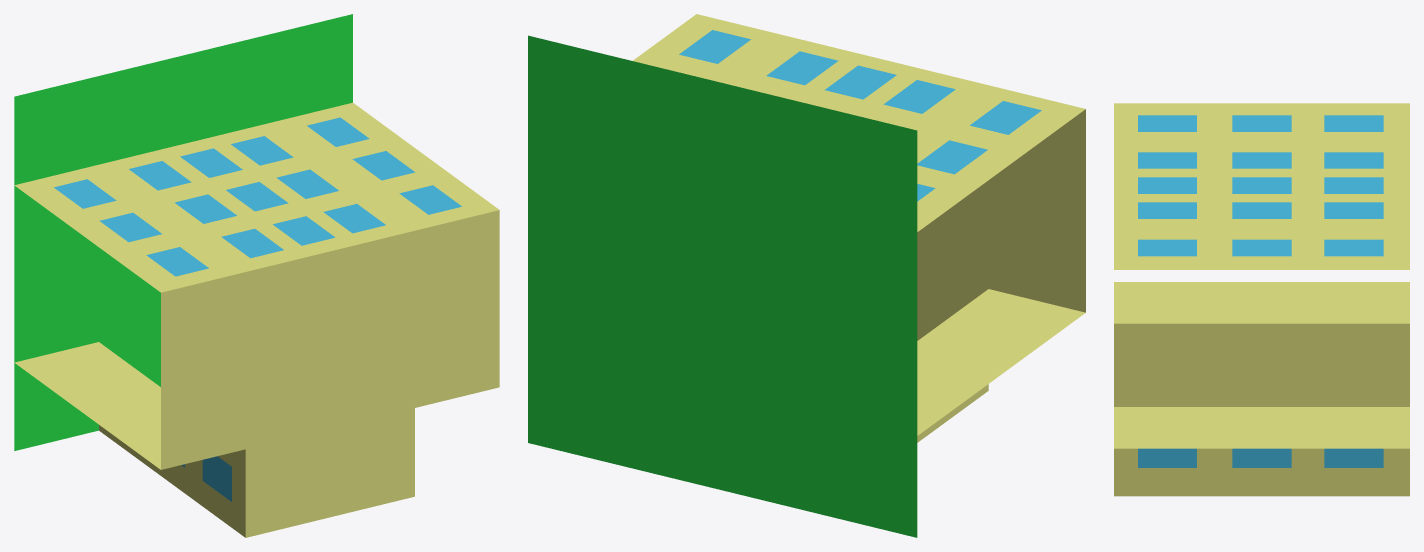
The model's file is building3.glb.
The picture shows the model from 3 angles, left to right: view 1: azimuth 30°, elevation 25°; view 2: azimuth 150°, elevation 25°; view 3: azimuth 270°, elevation 25°; orthographic projection. The views are drawn at different scales.
Visible parts, largest first — view 1: Plane.001, Plane; view 2: Plane, Plane.001; view 3: Plane.001.
Boxes of the visible parts, left/top/right/bottom form: Plane.001: left=14, top=102, right=499, bottom=537; Plane: left=14, top=14, right=352, bottom=450; Plane: left=528, top=35, right=917, bottom=537; Plane.001: left=528, top=14, right=1085, bottom=513; Plane.001: left=1114, top=103, right=1409, bottom=496.
Size of the model in its own units: 2 by 2 by 1.5.
